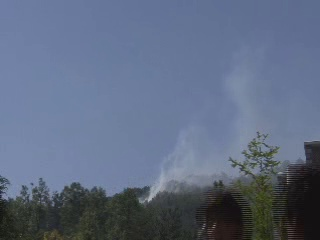smoke: (206, 54, 262, 186), (136, 118, 209, 203)
